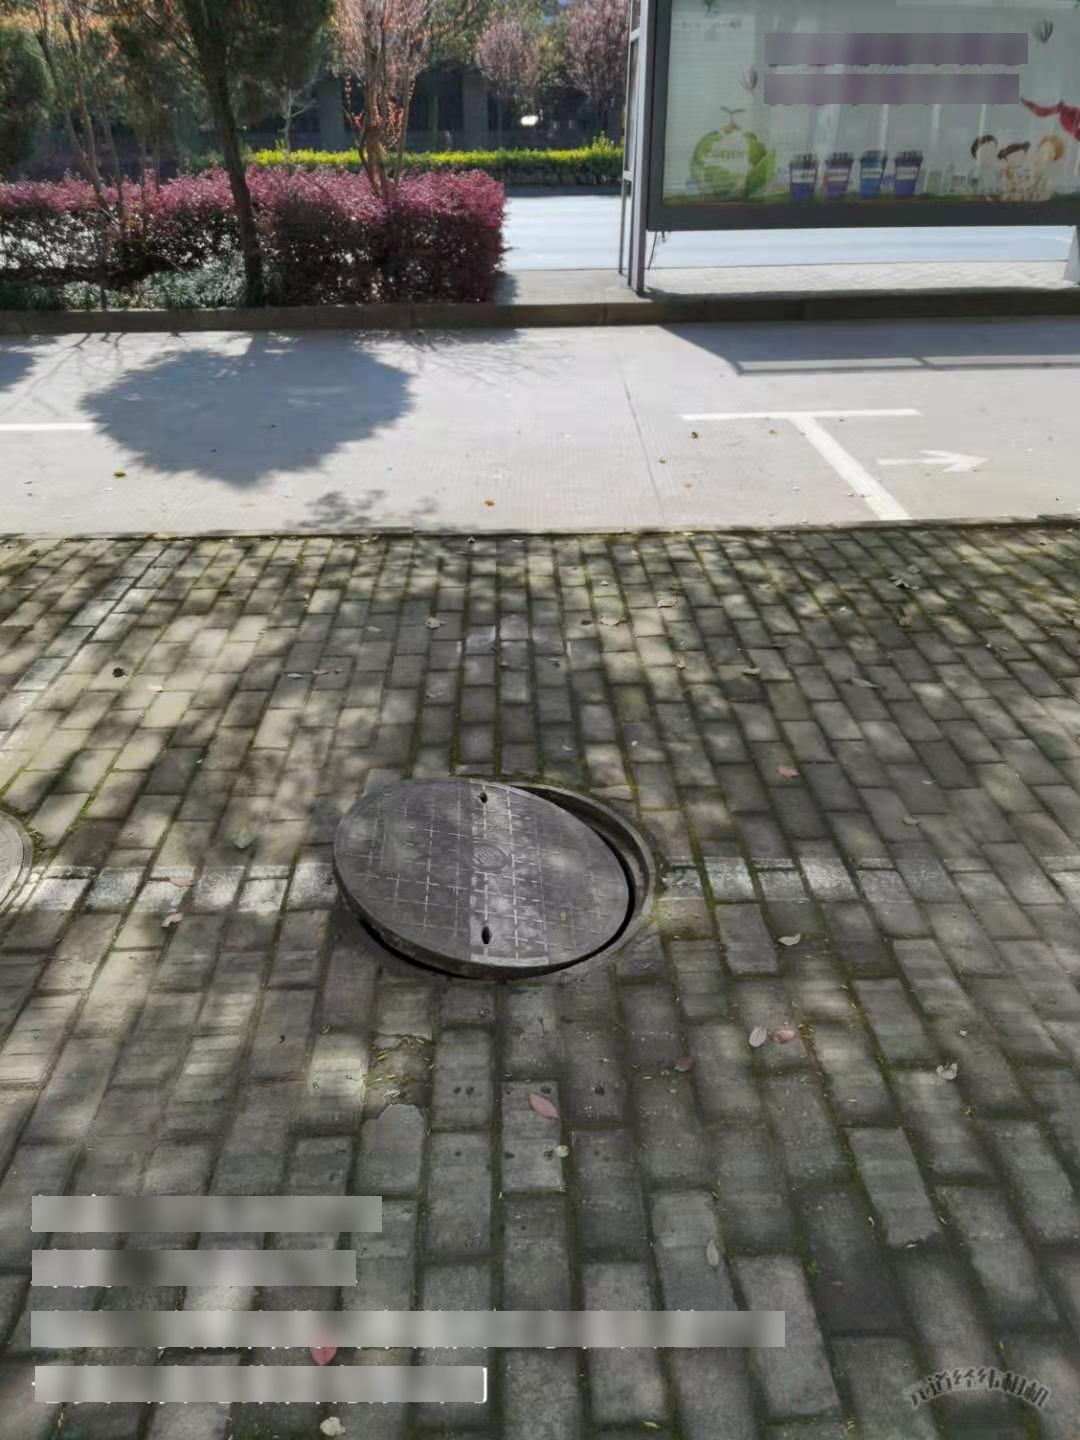uncovered: (331, 774, 656, 983)
